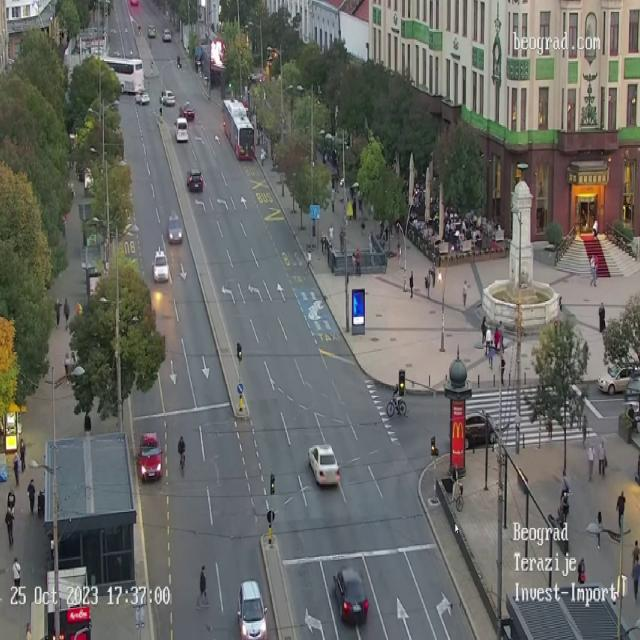bus: (221, 98, 255, 160), (100, 56, 144, 94)
car: (333, 567, 369, 626), (236, 579, 268, 639), (308, 442, 340, 487), (596, 360, 640, 390), (138, 432, 163, 482), (464, 413, 496, 450), (151, 248, 169, 282), (167, 211, 182, 244), (187, 169, 204, 192), (173, 120, 190, 140), (180, 101, 193, 121), (161, 90, 176, 106), (135, 89, 148, 106), (162, 29, 171, 42), (148, 25, 156, 37)
